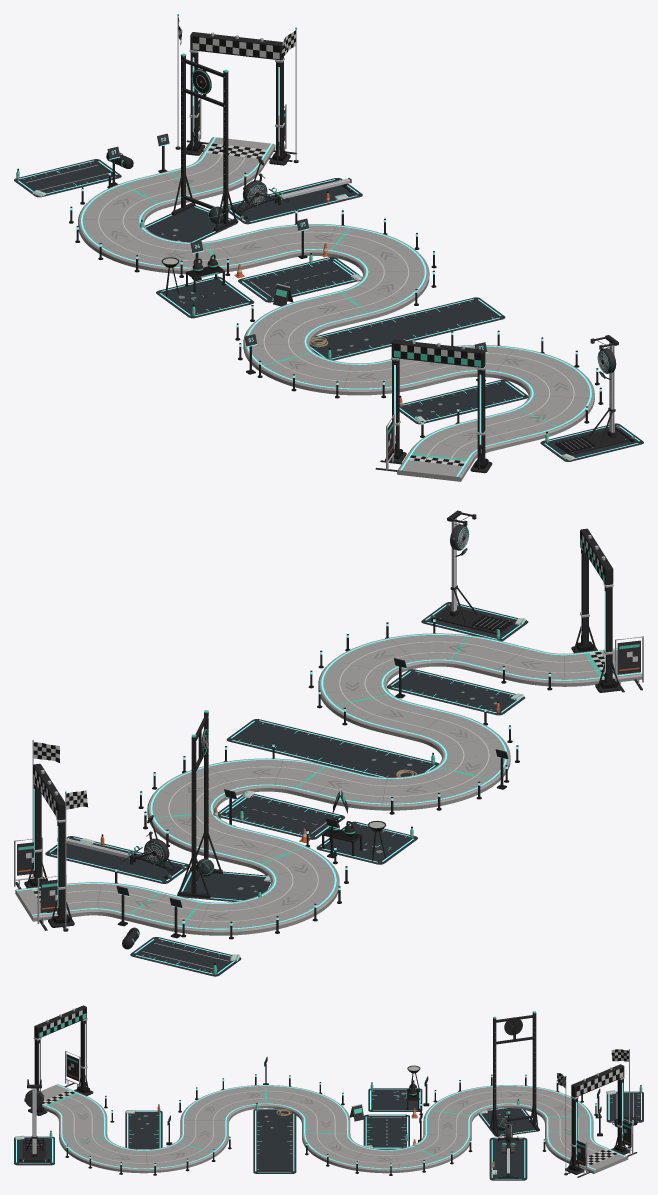
Rendered from hyrox_map.glb.
The picture shows the model from 3 angles, top to bottom: view 1: azimuth 30°, elevation 25°; view 2: azimuth 150°, elevation 25°; view 3: azimuth 270°, elevation 25°; orthographic projection. The views are drawn at different scales.
Parts seen in each view (by area): view 1: Map_Matte, Map_Gloss, Progress, Map_Glow; view 2: Map_Matte, Map_Gloss, Progress, Map_Glow; view 3: Map_Matte, Map_Gloss, Progress, Map_Glow, Station_03_Ring.
Boxes of the visible parts, box(x1,y1,x2,y2) form: Map_Matte: box(14, 14, 643, 481); Map_Gloss: box(70, 16, 634, 473); Progress: box(81, 137, 591, 476); Map_Glow: box(70, 57, 603, 452); Map_Matte: box(15, 516, 642, 976); Map_Gloss: box(14, 510, 643, 937); Progress: box(16, 634, 641, 929); Map_Glow: box(33, 550, 605, 925); Map_Matte: box(14, 1008, 643, 1180); Map_Gloss: box(21, 1005, 637, 1177); Progress: box(42, 1084, 626, 1169); Map_Glow: box(39, 1024, 623, 1165); Station_03_Ring: box(255, 1109, 294, 1172).
Bounding box in the file's own units: 6.17 × 3.39 × 16.85.
